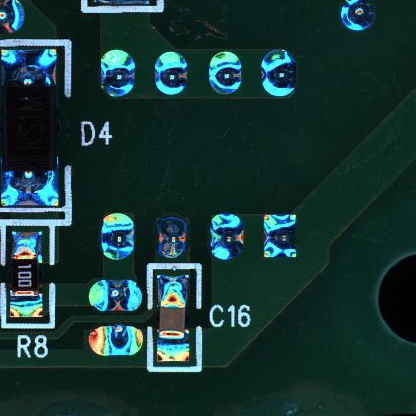spot: (99, 47, 138, 99), (258, 49, 297, 98), (88, 279, 144, 312), (262, 213, 299, 262), (99, 212, 135, 261), (209, 213, 244, 262), (88, 325, 144, 355), (208, 50, 242, 95), (155, 216, 187, 262), (154, 51, 188, 94), (339, 1, 378, 33)
